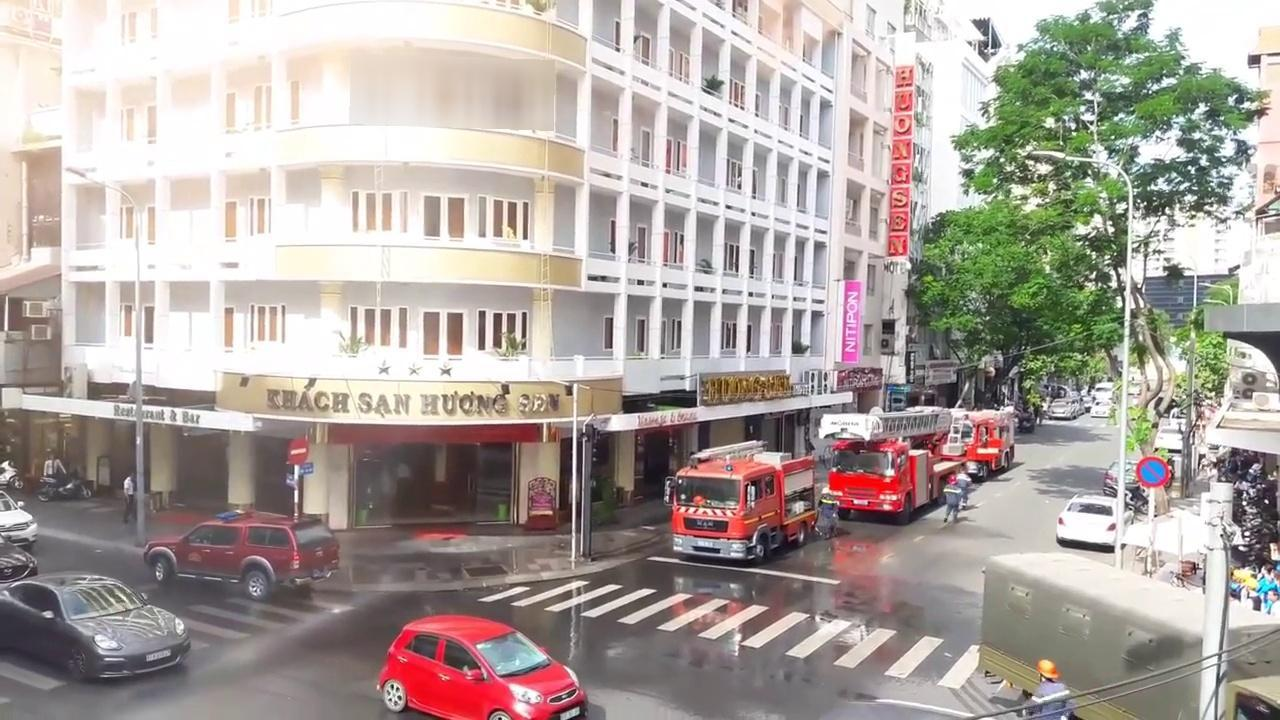xe cuu hoa: (669, 441, 816, 567), (821, 415, 967, 524), (934, 405, 1015, 483)
xe hoi: (376, 609, 582, 717), (0, 572, 188, 685), (143, 507, 339, 592), (1056, 492, 1134, 551), (1103, 457, 1143, 495)
xe tai: (981, 550, 1280, 719)
